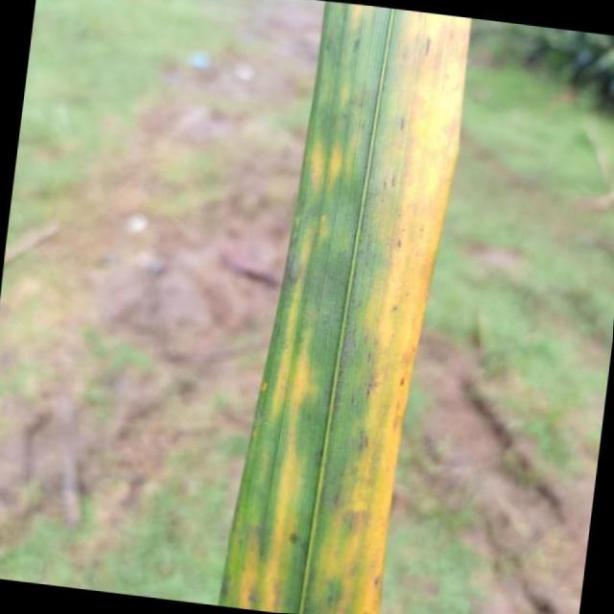Megnesium: (218, 0, 470, 614)
